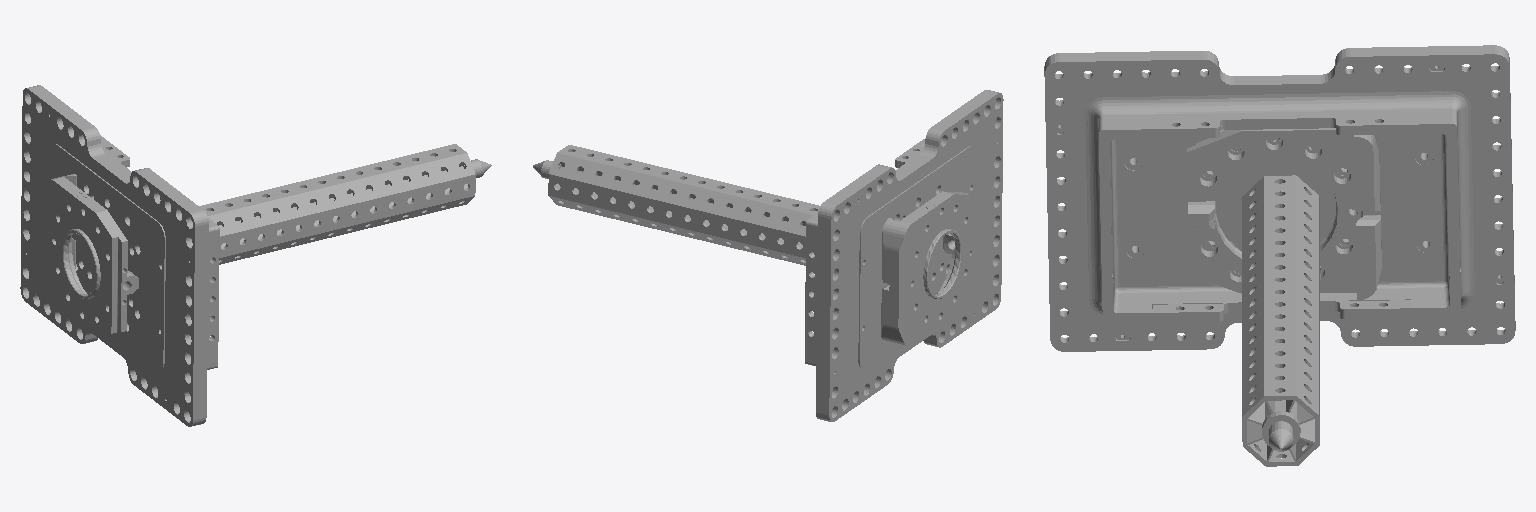
The robot description file, URDF, robot "robot__tool":
<?xml version="1.0" encoding="UTF-8"?>
<!-- Trimmed from the Fitter-dressed kr240r2900__sticktool (release catalogue; its TCP frame removed, as robots dressed before the Dresser wrote one): the chain and the tool visuals only, no meshes. -->
<robot name="robot__tool">
  <reach_envelope max_radius_2d="3.4947343589" volume_3d="108.0569455674" hull_mesh="./meshes/3dreach/reach_envelope.obj"/>
  <link name="World"/>
  <link name="like_kr240r2900_base_link">
  </link>
  <link name="like_kr240r2900_link_1">
  </link>
  <link name="like_kr240r2900_link_2">
  </link>
  <link name="like_kr240r2900_link_3">
  </link>
  <link name="like_kr240r2900_link_4">
  </link>
  <link name="like_kr240r2900_link_5">
  </link>
  <link name="like_kr240r2900_link_6">
    <visual>
      <origin xyz="0 0 0" rpy="0 0 3.1415927"/>
      <geometry>
        <mesh filename="./meshes/robot/like_kr240r2900_link_6_visuals_link_6_Scene_mesh.obj" scale="1 1 1"/>
      </geometry>
    </visual>
    <visual>
      <origin xyz="-0.867559091 0.0051023 0.0014709" rpy="1.5707965025 -0.7755733268 1.570796255"/>
      <geometry>
        <mesh filename="./meshes/tool/World_sticktool_sticktool__2_30D_355619_________0903_________K00_21_38D_600748_POS_103_BLZN_KLB__2_30D_355619_________0903_________K00_21_38D_600748_POS_103_BLZN_KLB.obj" scale="1 1 1"/>
      </geometry>
    </visual>
    <visual>
      <origin xyz="-0.856391991 -0.2856815 1.4456149" rpy="1.5707962804 0.7853982 3.1415926536"/>
      <geometry>
        <mesh filename="./meshes/tool/World_sticktool_sticktool__2_30D_355619_________0301_________K00_11_59D_323327_001_SWV__2_30D_355619_________0301_________K00_11_59D_323327_001_SWV.obj" scale="1 1 1"/>
      </geometry>
    </visual>
    <visual>
      <origin xyz="-0.913136791 -0.2816375 1.4413774" rpy="1.5707962804 0.7853982 3.1415926536"/>
      <geometry>
        <mesh filename="./meshes/tool/_2_30D_355619_________0301_________K00_11_59D_323327_001_SWV_01__2_30D_355619_________0301_________K00_11_59D_323327_001_SWV.obj" scale="1 1 1"/>
      </geometry>
    </visual>
    <visual>
      <origin xyz="-0.288610291 0.0063185 0.0038173" rpy="-1.5707963268 0.0198828268 1.5707963253"/>
      <geometry>
        <mesh filename="./meshes/tool/World_sticktool_sticktool__2_30D_355619_________0500_________K00_EGT016_1_H_RAH_300X450_SW80__2_30D_355619_________0500_________K00_EGT016_1_H_RAH_300X450_SW80.obj" scale="1 1 1"/>
      </geometry>
    </visual>
    <visual>
      <origin xyz="-0.859359291 0.0052451 -0.0008329" rpy="-3.1415890179 -1.5509135268 1.5707926454"/>
      <geometry>
        <mesh filename="./meshes/tool/World_sticktool_sticktool__2_30D_355619_________0456_________K00_EGT001_8KT_PROFIL_SW80_538__2_30D_355619_________0456_________K00_EGT001_8KT_PROFIL_SW80_538.obj" scale="1 1 1"/>
      </geometry>
    </visual>
  </link>
  <joint name="joint_a1" type="revolute">
    <origin xyz="0 0 0.860625" rpy="3.1415927 0 3.1415927"/>
    <parent link="like_kr240r2900_base_link"/>
    <child link="like_kr240r2900_link_1"/>
    <axis xyz="0 0 1"/>
    <limit lower="-3.2288591" upper="3.2288591" effort="340282346638528859811704183484516925440" velocity="2.7227136"/>
  </joint>
  <joint name="joint_a2" type="revolute">
    <origin xyz="-0.44625 0 0" rpy="3.1415927 0 3.1415927"/>
    <parent link="like_kr240r2900_link_1"/>
    <child link="like_kr240r2900_link_2"/>
    <axis xyz="0 1 0"/>
    <limit lower="-2.7052601" upper="0.6108652" effort="340282346638528859811704183484516925440" velocity="2.7227136"/>
  </joint>
  <joint name="joint_a3" type="revolute">
    <origin xyz="1.46625 0 0" rpy="0 0 0"/>
    <parent link="like_kr240r2900_link_2"/>
    <child link="like_kr240r2900_link_3"/>
    <axis xyz="0 1 0"/>
    <limit lower="-2.268928" upper="2.687807" effort="340282346638528859811704183484516925440" velocity="2.7227136"/>
  </joint>
  <joint name="joint_a4" type="revolute">
    <origin xyz="1.2750001 0 -0.052275" rpy="0 0 3.1415927"/>
    <parent link="like_kr240r2900_link_3"/>
    <child link="like_kr240r2900_link_4"/>
    <axis xyz="1 0 0"/>
    <limit lower="-6.1086524" upper="6.1086524" effort="340282346638528859811704183484516925440" velocity="5.759586"/>
  </joint>
  <joint name="joint_a5" type="revolute">
    <origin xyz="0 0 0" rpy="0 0 3.1415927"/>
    <parent link="like_kr240r2900_link_4"/>
    <child link="like_kr240r2900_link_5"/>
    <axis xyz="0 1 0"/>
    <limit lower="-2.268928" upper="2.268928" effort="340282346638528859811704183484516925440" velocity="5.759586"/>
  </joint>
  <joint name="joint_a6" type="revolute">
    <origin xyz="0 0 0" rpy="0 0 3.1415927"/>
    <parent link="like_kr240r2900_link_5"/>
    <child link="like_kr240r2900_link_6"/>
    <axis xyz="1 0 0"/>
    <limit lower="-6.1086524" upper="6.1086524" effort="340282346638528859811704183484516925440" velocity="10.7337749"/>
  </joint>
  <joint name="root_joint" type="fixed">
    <origin xyz="0 0 0" rpy="0 0 0"/>
    <parent link="World"/>
    <child link="like_kr240r2900_base_link"/>
    <axis xyz="0 0 1"/>
  </joint>
</robot>

--- What the picture shows (computed from the rendered views, not written in the file) ---
Views: 3 orthographic renders of the robot side by side, from view 1: azimuth 30°, elevation 25°; view 2: azimuth 150°, elevation 25°; view 3: azimuth 270°, elevation 25°.
Robot: robot__tool — 8 links, 7 joints (6 revolute, 1 fixed); root link World; default pose: every joint at zero.
Links seen in each view (by area): view 1: like_kr240r2900_link_6; view 2: like_kr240r2900_link_6; view 3: like_kr240r2900_link_6.
Link boxes in pixels (x1,y1,x2,y2): like_kr240r2900_link_6: [20, 85, 491, 426]; like_kr240r2900_link_6: [533, 90, 1003, 421]; like_kr240r2900_link_6: [1044, 45, 1515, 466].
Bounding box of the posed robot: 0.6629 × 0.4859 × 0.3389 m (x, y, z).
Meshes: 6 distinct files referenced, 5 mesh visuals loaded (5 OBJ); not drawn: 1 (reference not matched to a file when rendering).
